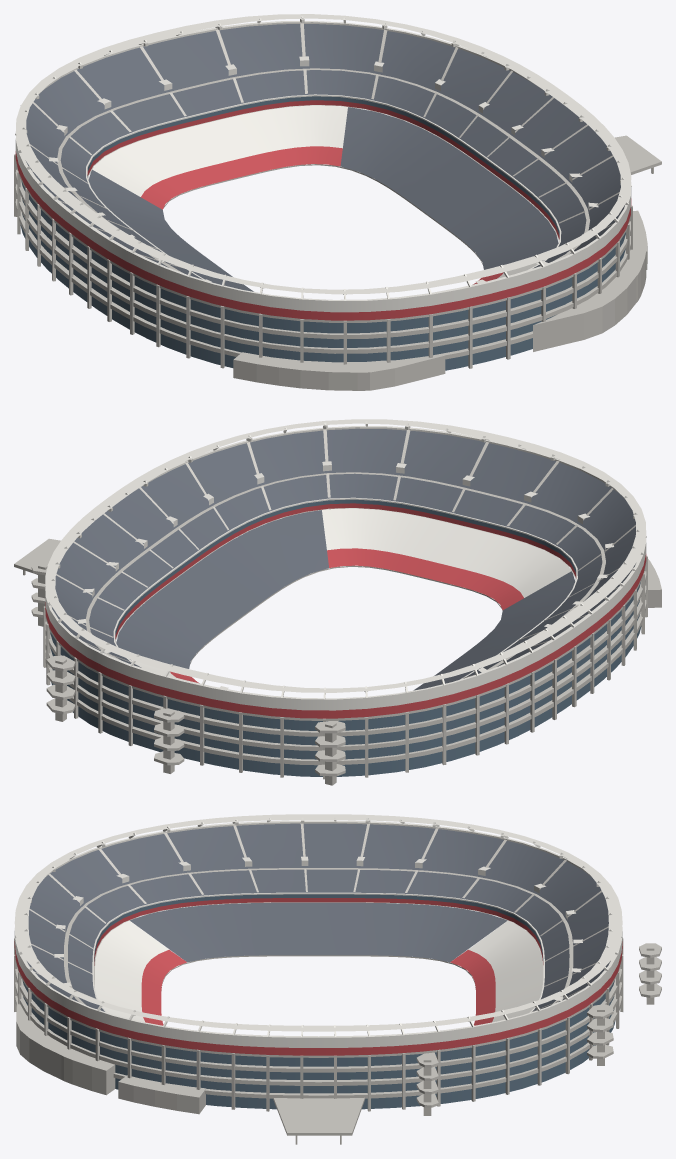
Rendered from buenos-aires-monumental.glb.
3 renders of one model, top to bottom at view 1: azimuth 30°, elevation 25°; view 2: azimuth 150°, elevation 25°; view 3: azimuth 270°, elevation 25°, orthographic. The views are drawn at different scales.
Parts seen in each view (by area): view 1: Estadio Mâs Monumental; view 2: Estadio Mâs Monumental; view 3: Estadio Mâs Monumental.
Part boxes in pixels (left/top/right/bottom): Estadio Mâs Monumental: left=14, top=14, right=661, bottom=390; Estadio Mâs Monumental: left=14, top=419, right=661, bottom=785; Estadio Mâs Monumental: left=14, top=814, right=661, bottom=1144.
Bounding box in the file's own units: 243 × 36.68 × 263.
